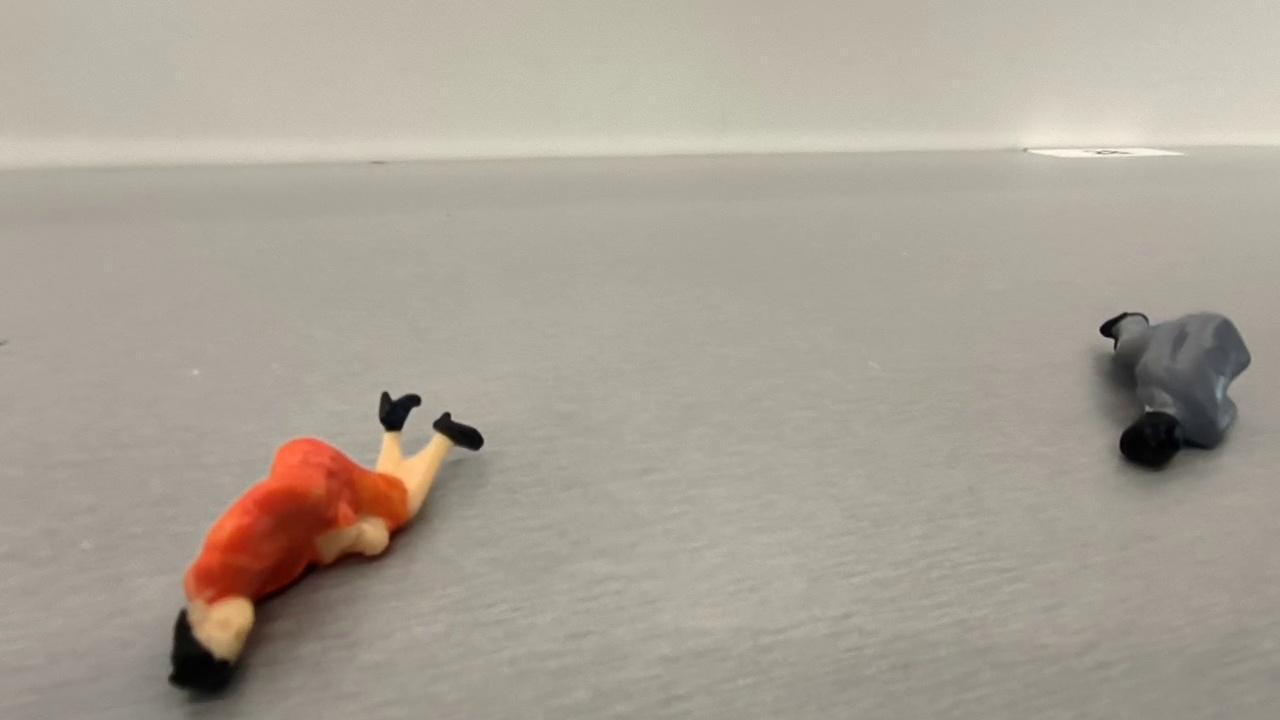human: (133, 380, 526, 716), (1062, 287, 1269, 500)
